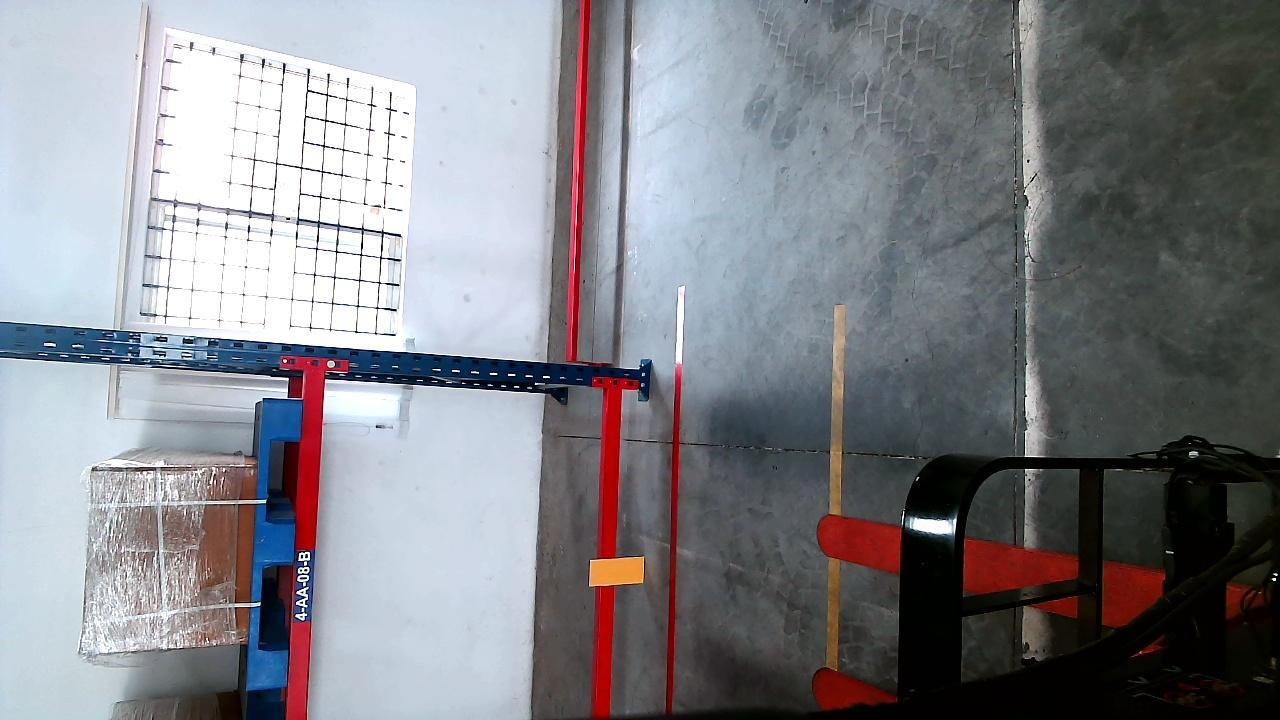red_line: (666, 288, 685, 713)
yellow_line: (823, 304, 849, 688)
